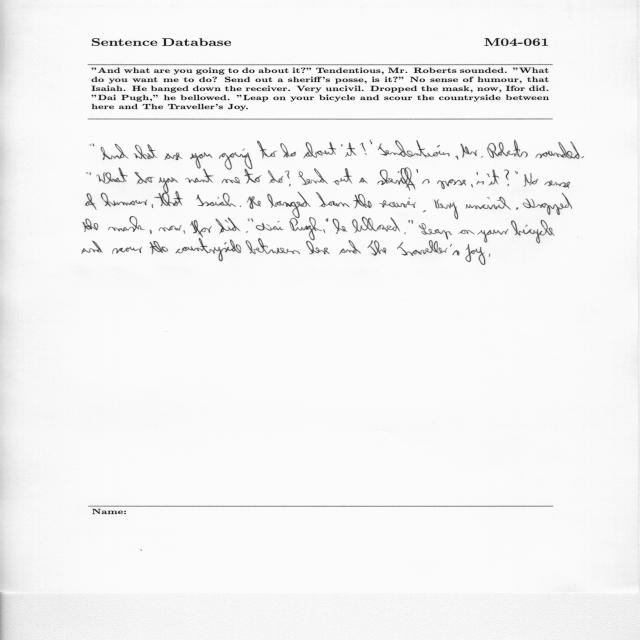word: (176, 238, 241, 262), (378, 140, 450, 158), (377, 168, 430, 191), (267, 192, 311, 218), (523, 193, 572, 215), (511, 220, 555, 243), (397, 240, 460, 256), (246, 238, 300, 254), (352, 216, 400, 233), (535, 141, 580, 159), (289, 217, 322, 241), (487, 140, 528, 158), (219, 149, 252, 170), (101, 193, 147, 206), (108, 216, 145, 232), (466, 197, 511, 210), (196, 193, 236, 207), (419, 223, 453, 239), (304, 142, 337, 158), (298, 168, 328, 185), (316, 192, 350, 207), (97, 168, 128, 184), (434, 199, 458, 219), (154, 191, 183, 207), (101, 144, 129, 160), (477, 229, 508, 243), (251, 218, 284, 231), (216, 217, 241, 234), (466, 244, 486, 265), (379, 197, 416, 208), (190, 220, 212, 238), (186, 169, 214, 183), (257, 141, 278, 159), (133, 145, 158, 160), (190, 152, 212, 169), (461, 143, 483, 158), (517, 172, 539, 187), (339, 240, 361, 255), (333, 168, 352, 185), (306, 241, 330, 254), (368, 240, 387, 256), (437, 179, 466, 189), (82, 241, 103, 254), (244, 169, 262, 184), (353, 194, 372, 208), (159, 177, 178, 190), (281, 143, 297, 158), (134, 172, 154, 184), (150, 241, 168, 254), (333, 219, 348, 234), (341, 143, 356, 157), (83, 218, 98, 232), (112, 247, 142, 254), (545, 181, 571, 189), (268, 170, 283, 183), (487, 170, 499, 186), (86, 193, 97, 210), (247, 196, 261, 209), (159, 225, 182, 231), (165, 153, 183, 160), (222, 177, 240, 184), (285, 171, 291, 187), (476, 172, 484, 184), (504, 170, 509, 187), (360, 143, 367, 155), (458, 230, 475, 234), (359, 178, 367, 184), (408, 220, 413, 224), (456, 155, 459, 160), (90, 144, 94, 147), (370, 140, 373, 144), (87, 172, 91, 175), (149, 230, 152, 234), (326, 218, 329, 222), (183, 230, 185, 234), (324, 229, 326, 233), (581, 156, 584, 158), (471, 184, 473, 187), (423, 210, 426, 212), (516, 207, 518, 210), (152, 204, 153, 208), (246, 231, 248, 233), (404, 233, 406, 235), (248, 218, 249, 221), (489, 254, 490, 257), (515, 171, 516, 173), (240, 206, 241, 207)
